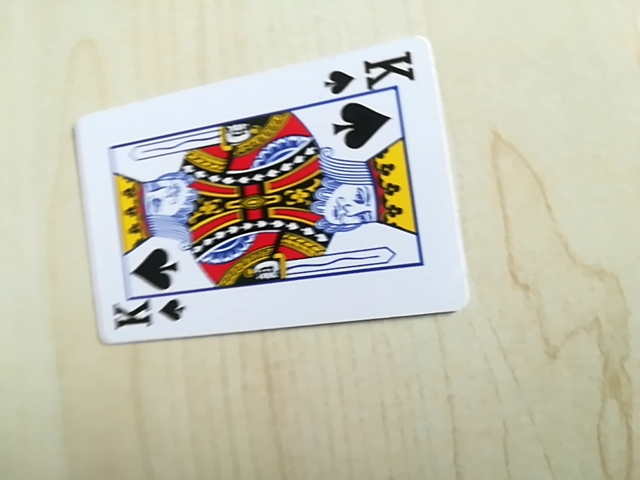ht k: (317, 51, 422, 98), (107, 290, 190, 337)
